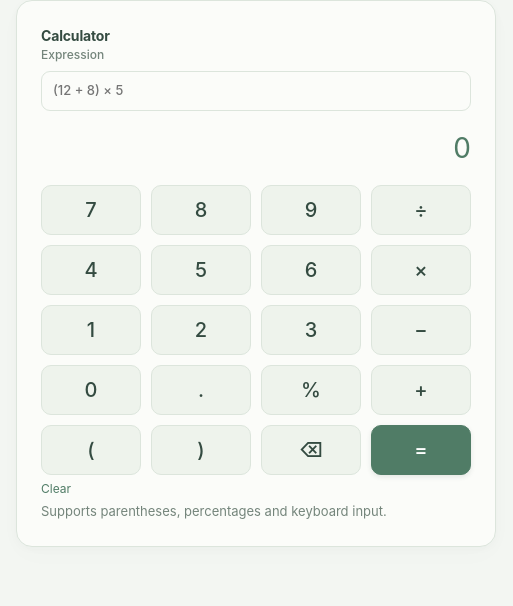
Test: calculates keyboard expressions, reports errors, and clears results
Type "(12+8)*5" into the field labelled "Expression".
click(256, 91); type("(12+8)*5")  # box [41,71,471,110]
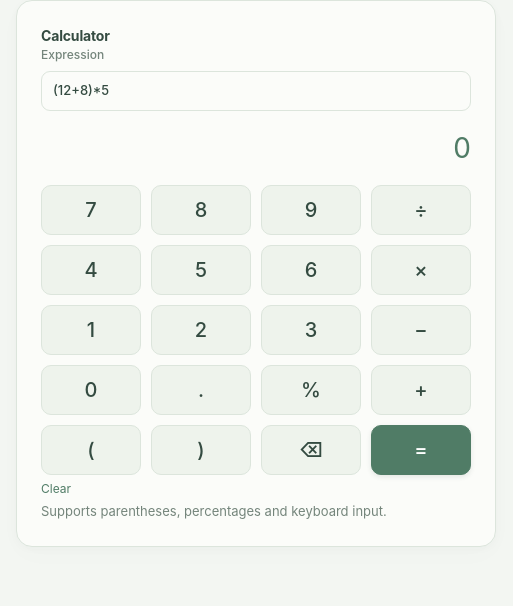
Submit the form "Expression"
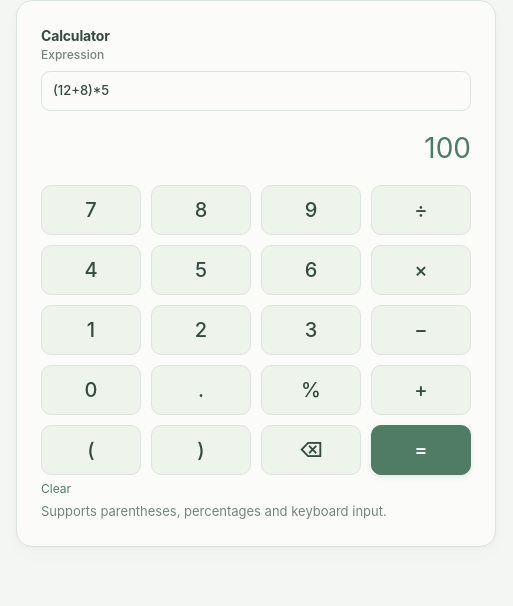
Result: the message reads "100" at [424,130,471,164]
Replace the text in the field labelled "Expression" with "1/0" at (256, 91), box [41,71,471,110]
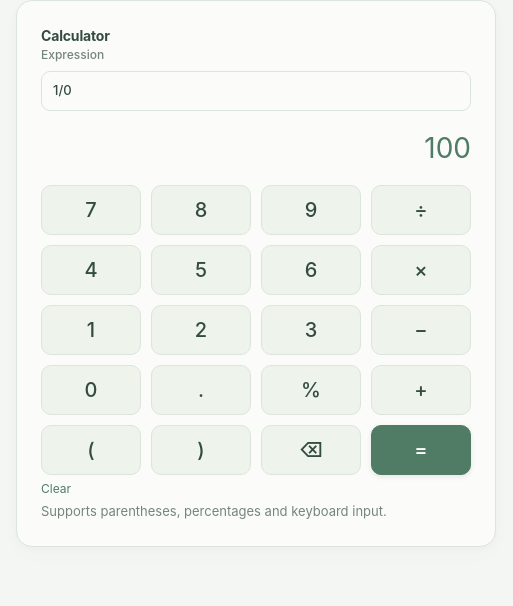
Click the button "=".
click(421, 450)  # box [371,424,471,474]
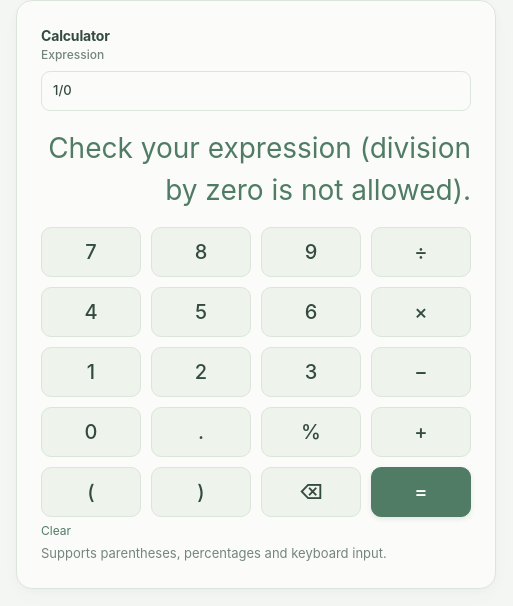
Result: the message "Check your expression (division by zero is not allowed)." is shown at [41,110,471,226]
Click the button "Clear".
click(56, 530)  # box [41,518,71,542]
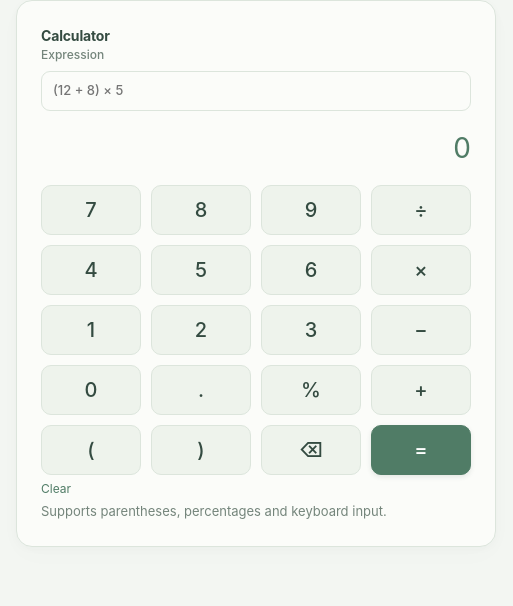
Result: the field labelled "Expression" is empty at [41,71,471,110]
